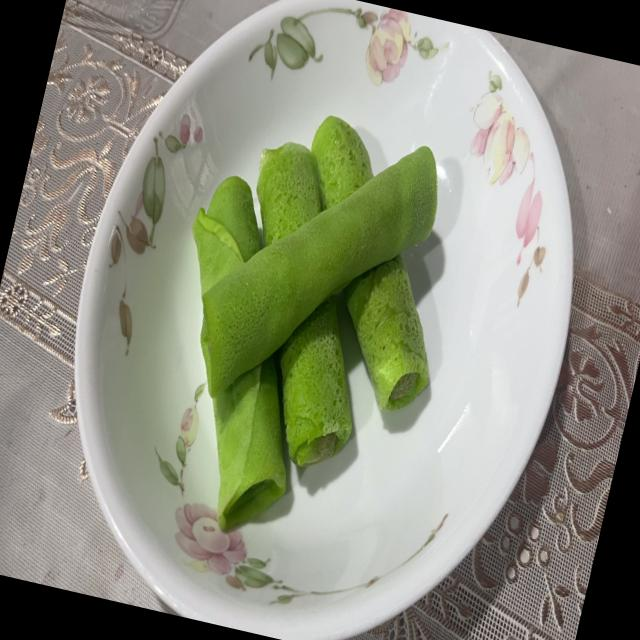Kuih-Ketayap: (202, 145, 437, 396), (344, 254, 428, 410), (279, 295, 351, 467), (213, 357, 285, 529), (191, 175, 261, 295), (256, 141, 321, 245), (310, 115, 373, 209)
